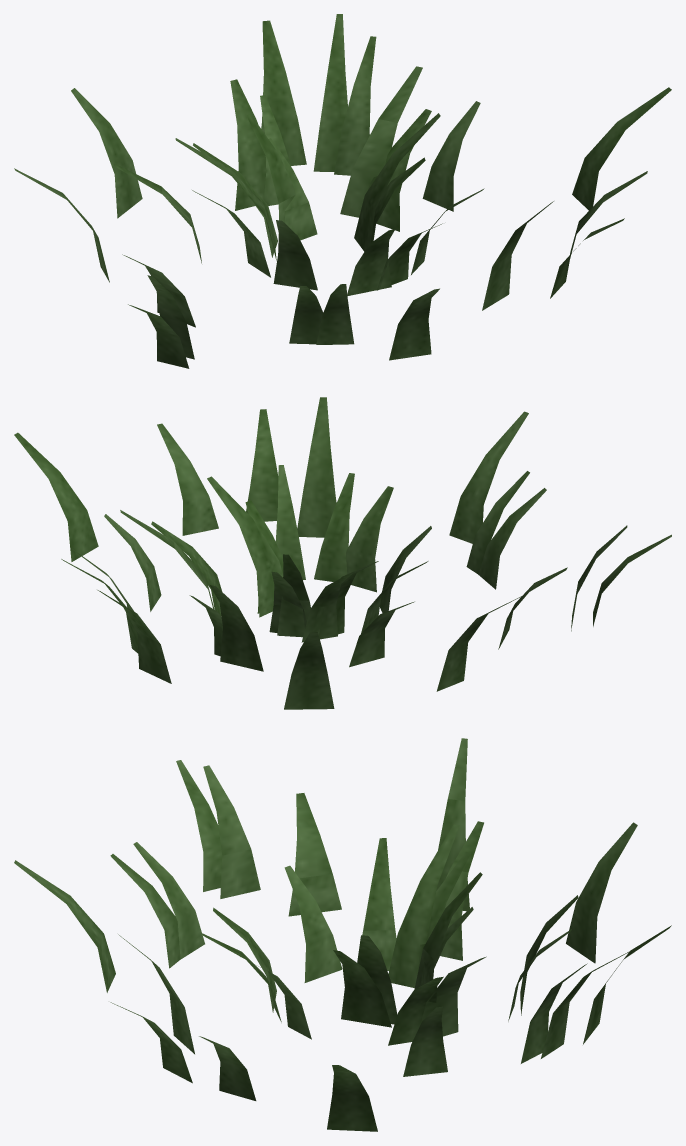
The model's file is grass_tuft_5.glb.
The picture shows the model from 3 angles, top to bottom: view 1: azimuth 30°, elevation 25°; view 2: azimuth 150°, elevation 25°; view 3: azimuth 270°, elevation 25°; orthographic projection. The views are drawn at different scales.
Visible parts, largest first — view 1: grass_tuft_5; view 2: grass_tuft_5; view 3: grass_tuft_5.
Boxes of the visible parts, x1,y1,x2,y2 form: grass_tuft_5: (14,14,671,368); grass_tuft_5: (14,397,671,709); grass_tuft_5: (14,738,671,1131).
Bounding box in the file's own units: 1.17 × 0.2198 × 1.03.
1 material, 1 textured.
